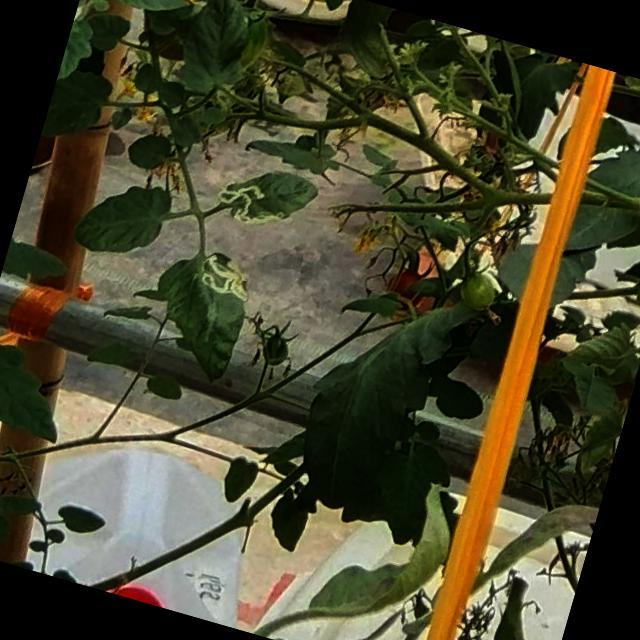Tomato target spot leaf: (134, 234, 262, 388), (208, 150, 326, 246)
